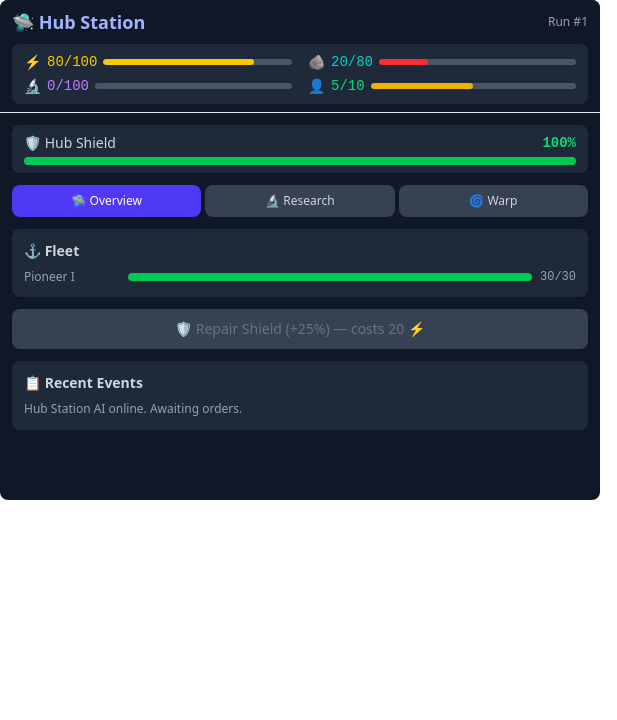
Test case: HubStation › can return to hub from region
The image size is (617, 720).
Click the button "🌀 Warp": (493,201) [399,185,588,217]
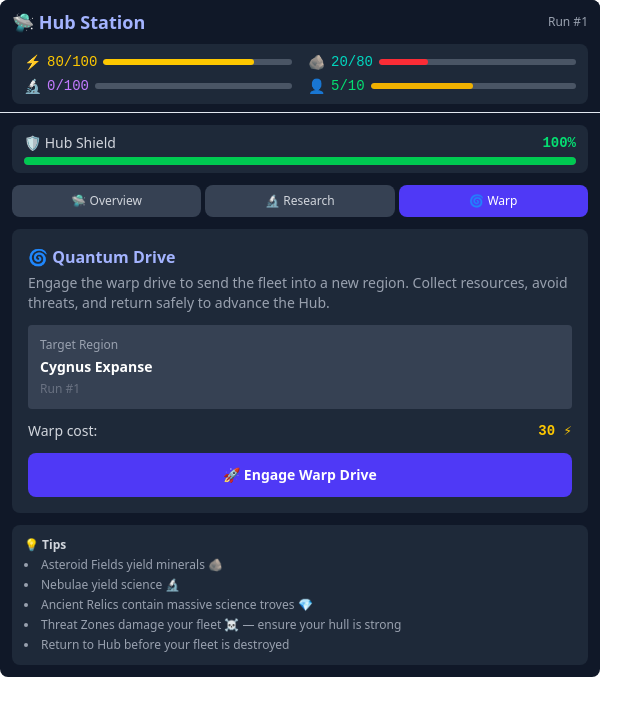
Click the button "🚀 Engage Warp Drive": (300,475) [28,453,572,497]
(page scrolled)
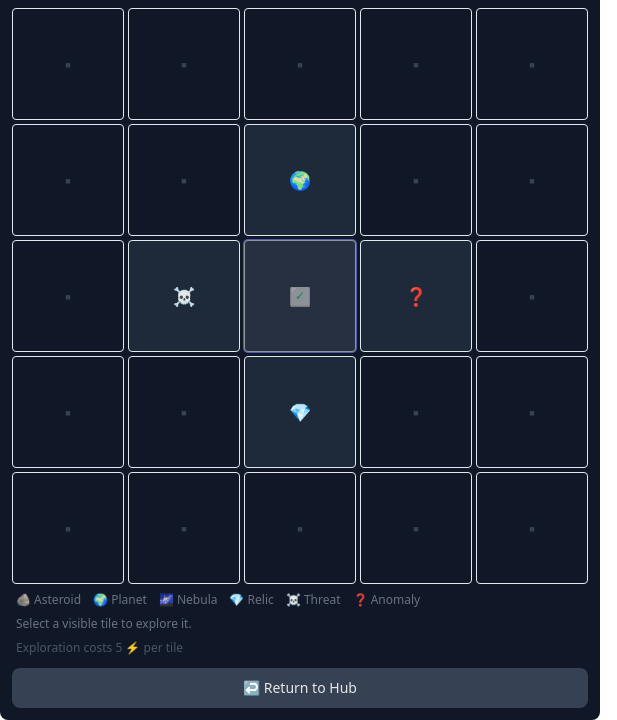
Click the button "↩ Return to Hub": (300,688) [12,668,588,708]
(page scrolled)
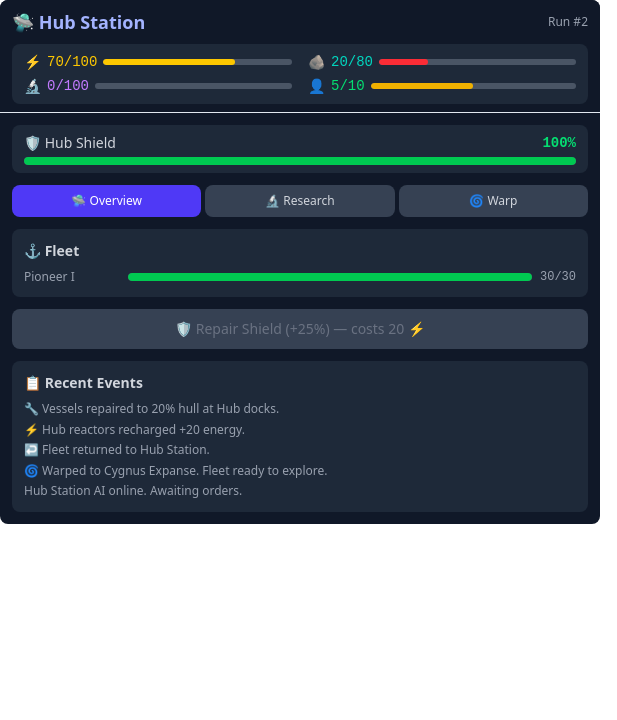
Check: the text "🛡️ Hub Shield" is shown, box [24,133,116,153]
